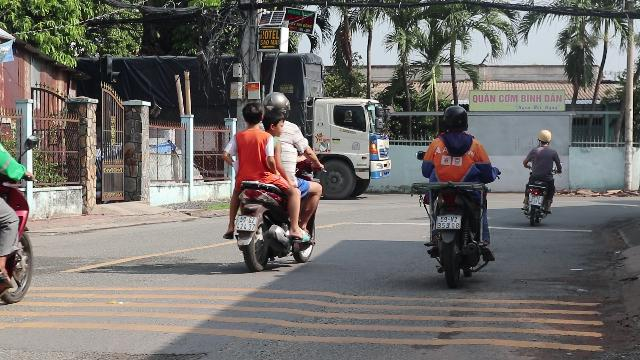helmet: (260, 91, 290, 119), (442, 103, 468, 132)
licenseplate: (437, 215, 461, 229), (235, 216, 257, 231)
motorcyclist: (220, 92, 324, 272), (410, 103, 498, 282)
nohelmet: (262, 109, 284, 140), (240, 100, 264, 128)
